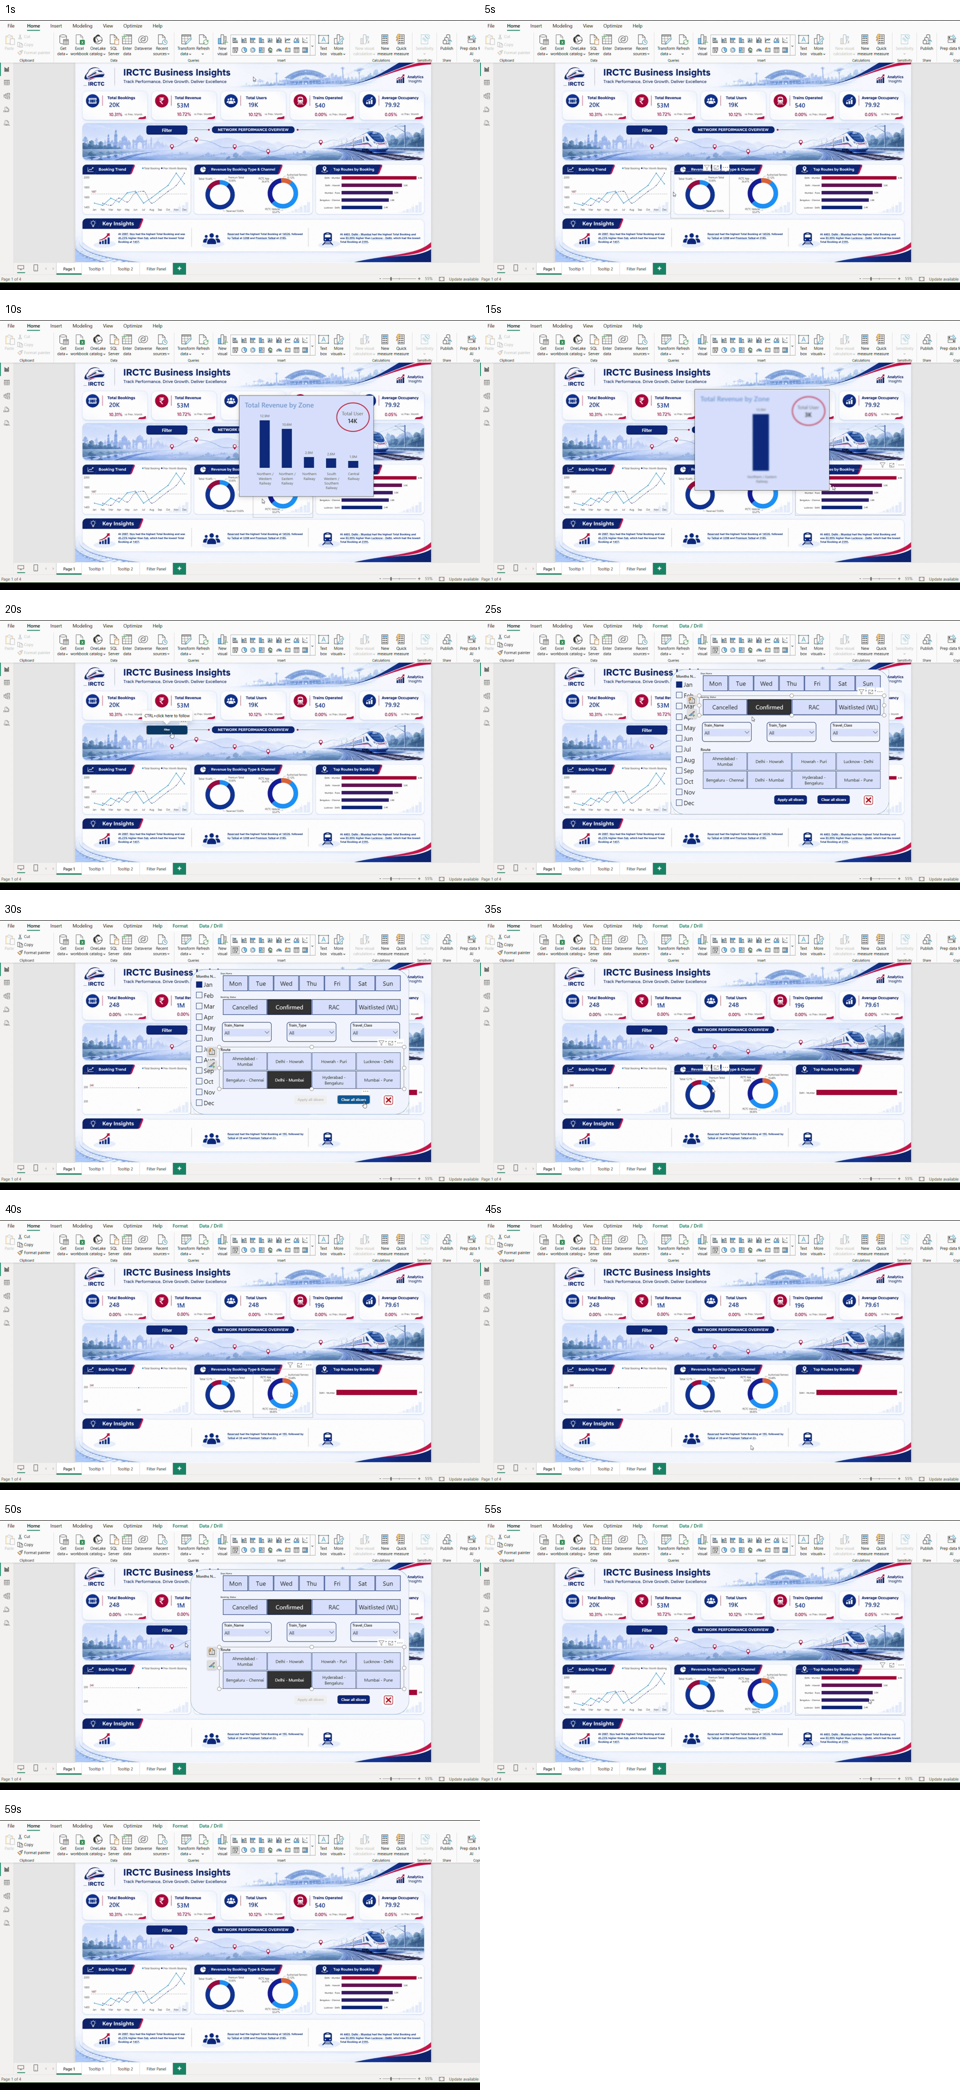

The page's visual inventory and layout, read from the dashboard file:
{"tool":"powerbi","page":{"name":"Page 1","canvas":[1920,1080],"ordinal":0},"visuals":[{"type":"cardVisual","fields":{"Data":["Measure.Total Booking"]},"box":[170,182.5,123.8,83.8],"z":0},{"type":"cardVisual","fields":{"Data":["Measure.Total Revenue"]},"box":[536.2,167.5,138.8,115],"z":1000},{"type":"cardVisual","fields":{"Data":["Measure.Total User"]},"box":[923.8,165,125,117.5],"z":2000},{"type":"cardVisual","fields":{"Data":["Measure.Train Operted"]},"box":[1281.2,167.5,148.8,115],"z":3000},{"type":"cardVisual","fields":{"Data":["Measure.Avg Occupancy"]},"box":[1660,164,154,118],"z":4000},{"type":"cardVisual","fields":{"Data":["Measure.MOM Booking %"]},"box":[170,258.3,123.3,38.3],"z":5000},{"type":"cardVisual","fields":{"Data":["Measure.MOM Revenue %"]},"box":[536.7,256.7,140,38.3],"z":6000},{"type":"cardVisual","fields":{"Data":["Measure.MOM User %"]},"box":[923.3,255,110,45],"z":7000},{"type":"cardVisual","fields":{"Data":["Measure.MOM Train_OP %"]},"box":[1281.7,251.7,118.3,50],"z":8000},{"type":"cardVisual","fields":{"Data":["Measure.MOM Train_OC %"]},"box":[1660,258.3,118.3,38.3],"z":9000},{"type":"textbox","box":[821.6,913.9,421.7,70.6],"z":10000},{"type":"donutChart","fields":{"Category":["IRCTC.Booking_Type"],"Y":["Measure.Total Booking"]},"box":[623.3,586.7,318.3,253.3],"z":11000},{"type":"donutChart","fields":{"Category":["IRCTC.Booking_Channel"],"Y":["Measure.Total Booking"]},"box":[960,573.3,323.3,263.3],"z":12000},{"type":"clusteredBarChart","fields":{"Category":["IRCTC.Route"],"Y":["Measure.Total Booking"]},"box":[1295.7,573.7,593.6,249.7],"z":13000},{"type":"textbox","box":[261.7,268.3,103.3,35],"z":14000},{"type":"textbox","box":[636.7,266.7,103.3,35],"z":15000},{"type":"textbox","box":[1018.8,266,103.2,36.2],"z":16000},{"type":"textbox","box":[1366.7,268.3,103.3,35],"z":17000},{"type":"textbox","box":[1755,266.7,103.3,35],"z":18000},{"type":"textbox","box":[231.6,913.9,390.9,70.6],"z":19000},{"type":"textbox","box":[1429.6,895.8,434.3,108.6],"z":20000},{"type":"lineChart","fields":{"Category":["Date Table.Months Name"],"Y":["Measure.Total Booking","Measure.Prev Month Booking"]},"box":[29,539.3,593.6,284.1],"z":21000},{"type":"actionButton","title":"Filter","box":[384,338,222,50],"z":22000}]}

Visuals, with their boxes on the page's 1920x1080 design canvas (x1, y1, x2, y2). These are canvas units, not pixel positions in the 960x2100 screenshot, which may show the page scaled, cropped or inside an application window:
cardVisual - Measure.Total Booking: Rect(170, 182, 294, 266)
cardVisual - Measure.Total Revenue: Rect(536, 168, 675, 282)
cardVisual - Measure.Total User: Rect(924, 165, 1049, 282)
cardVisual - Measure.Train Operted: Rect(1281, 168, 1430, 282)
cardVisual - Measure.Avg Occupancy: Rect(1660, 164, 1814, 282)
cardVisual - Measure.MOM Booking %: Rect(170, 258, 293, 297)
cardVisual - Measure.MOM Revenue %: Rect(537, 257, 677, 295)
cardVisual - Measure.MOM User %: Rect(923, 255, 1033, 300)
cardVisual - Measure.MOM Train_OP %: Rect(1282, 252, 1400, 302)
cardVisual - Measure.MOM Train_OC %: Rect(1660, 258, 1778, 297)
textbox: Rect(822, 914, 1243, 984)
donutChart - IRCTC.Booking_Type x Measure.Total Booking: Rect(623, 587, 942, 840)
donutChart - IRCTC.Booking_Channel x Measure.Total Booking: Rect(960, 573, 1283, 837)
clusteredBarChart - IRCTC.Route x Measure.Total Booking: Rect(1296, 574, 1889, 823)
textbox: Rect(262, 268, 365, 303)
textbox: Rect(637, 267, 740, 302)
textbox: Rect(1019, 266, 1122, 302)
textbox: Rect(1367, 268, 1470, 303)
textbox: Rect(1755, 267, 1858, 302)
textbox: Rect(232, 914, 622, 984)
textbox: Rect(1430, 896, 1864, 1004)
lineChart - Date Table.Months Name x Measure.Total Booking: Rect(29, 539, 623, 823)
"Filter" actionButton: Rect(384, 338, 606, 388)
